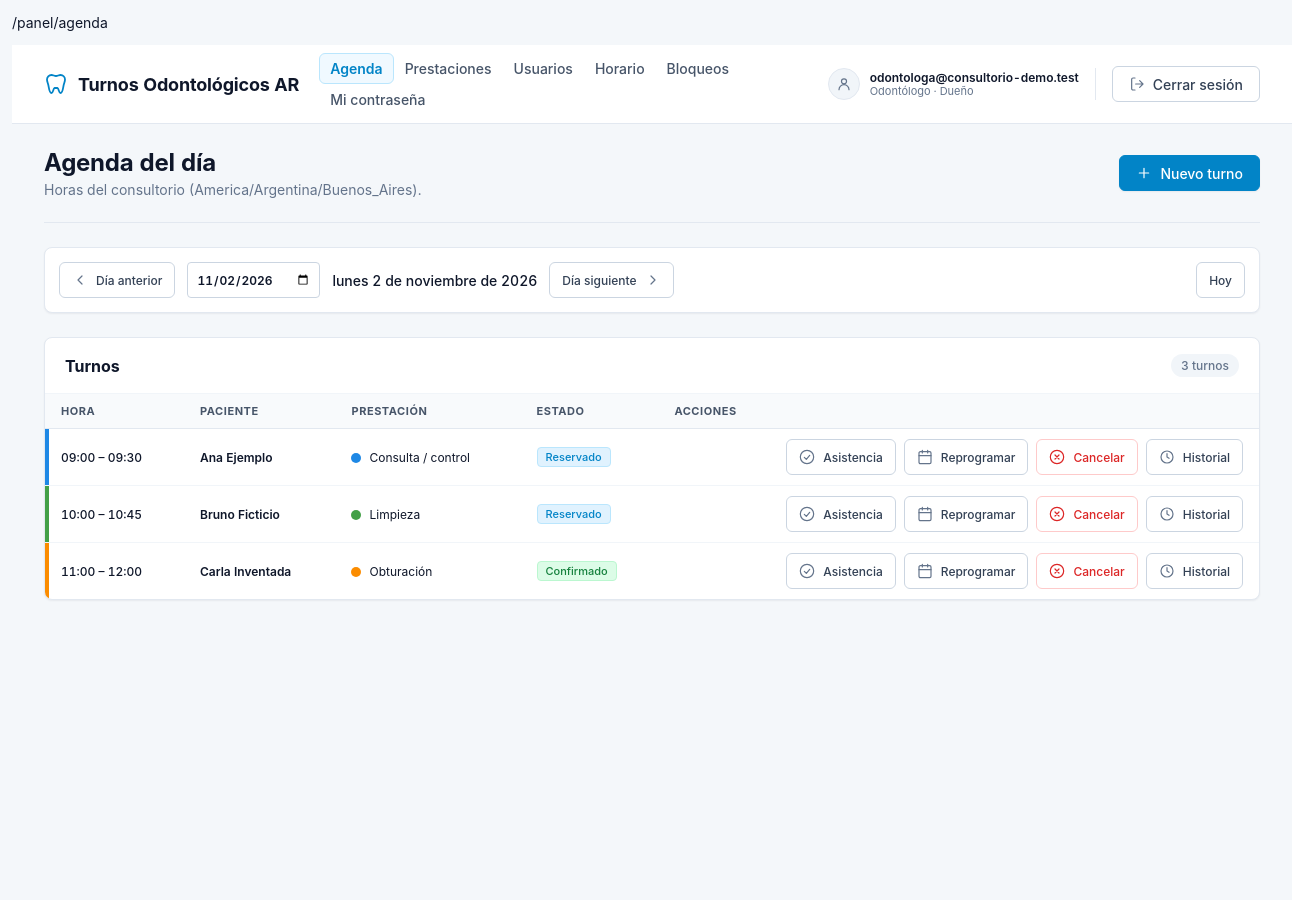
Test: PanelHistorial: ver el historial desde la agenda › HIS-2b: un estado_cambiado de confirmado a ausente
Check: the text "lunes 2 de noviembre de 2026" is shown, box [332,272,537,288]
Click the button with aria-label "Historial del turno de Carla Inventada, 11:00": (1194, 571) [1146,553,1243,589]
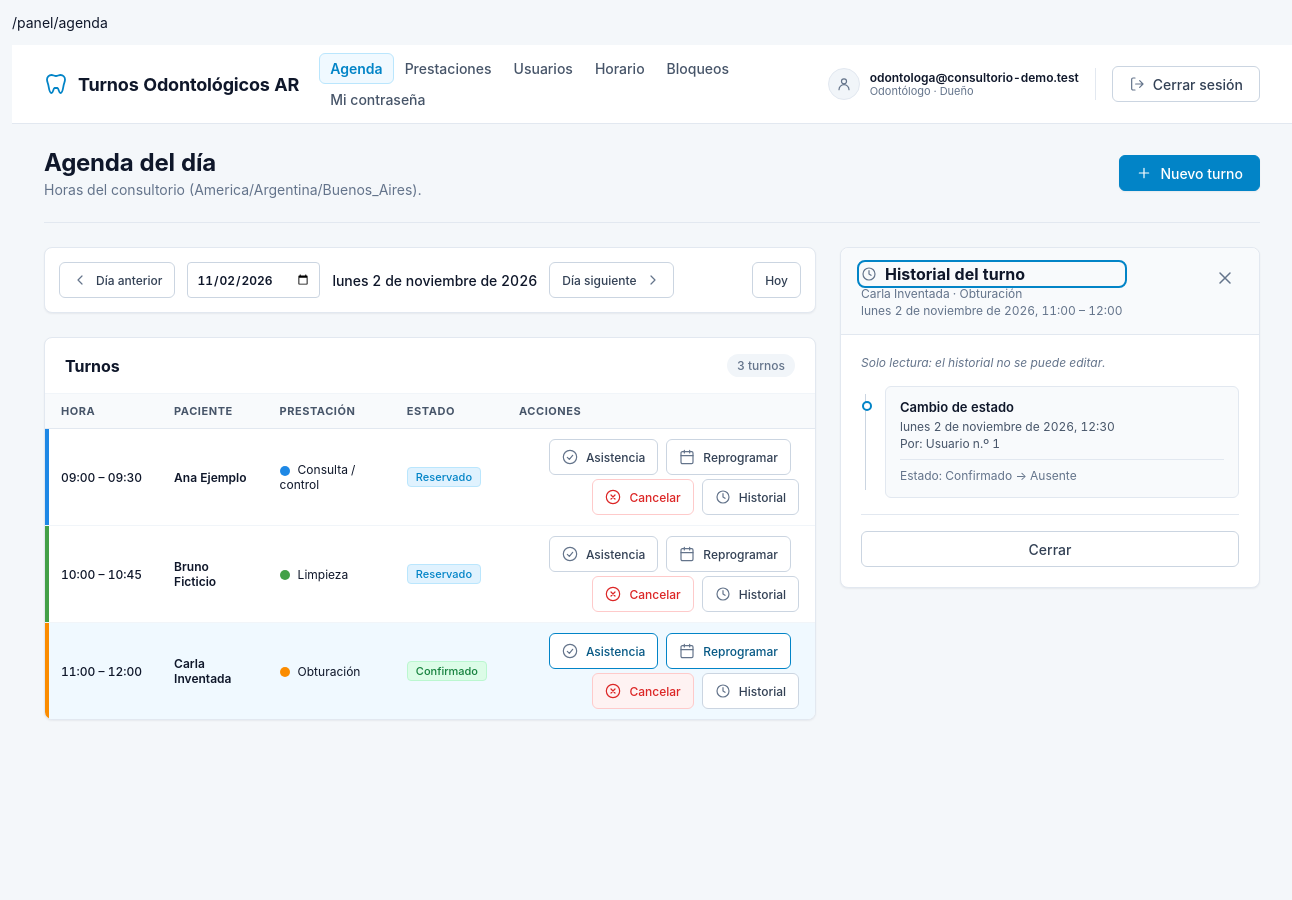
Check: the list items read "Cambio de estadolunes 2 de noviembre de 2026, 12:30Por: Usuario n.º 1Estado: Confirmado → Ausente", in this order, box [885,386,1239,498]
